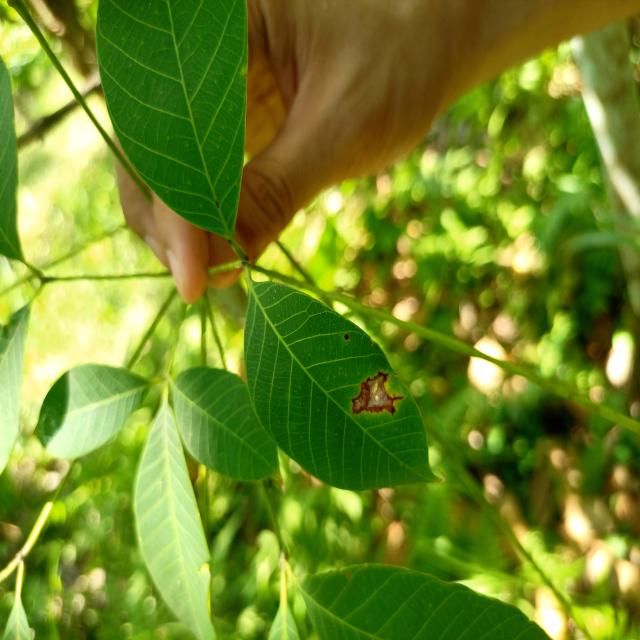Corynespora: (353, 394, 404, 416), (362, 372, 390, 383), (344, 334, 349, 341)
Leaf-Blight: (368, 376, 391, 406)
